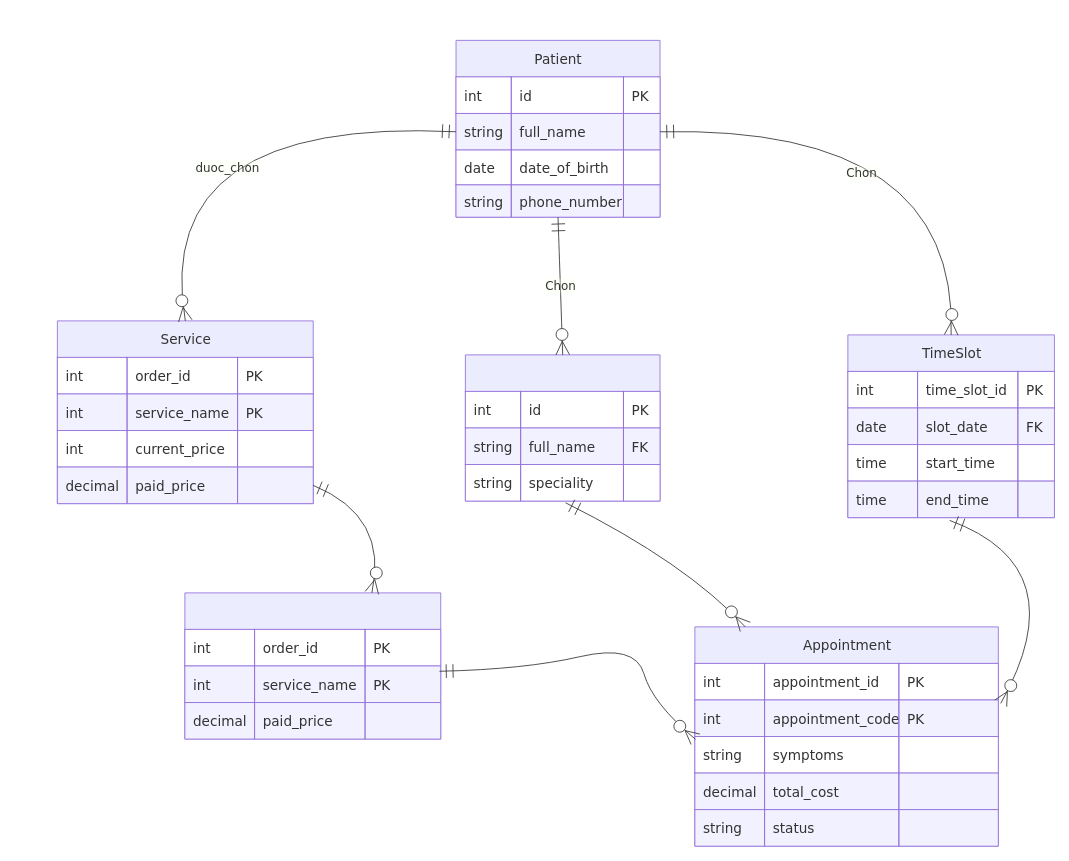
The diagram is 1069 pixels wide and 861 high, and some of its shapes have lost their labels. Here are the shapes that lost their labels. From the top down, the box of each, then its label:
(465, 354, 660, 501): Doctor
(184, 592, 441, 739): OrderService
